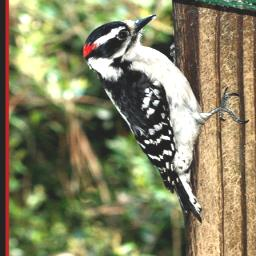Woodpecker: (81, 14, 253, 220)
